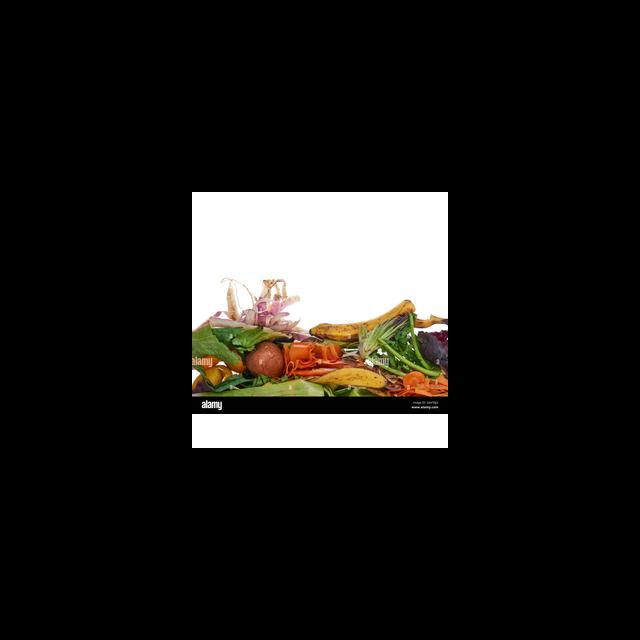food_waste: (305, 312, 448, 347), (192, 323, 249, 395), (229, 287, 297, 339), (316, 355, 394, 393), (404, 361, 448, 399), (252, 346, 295, 381)
